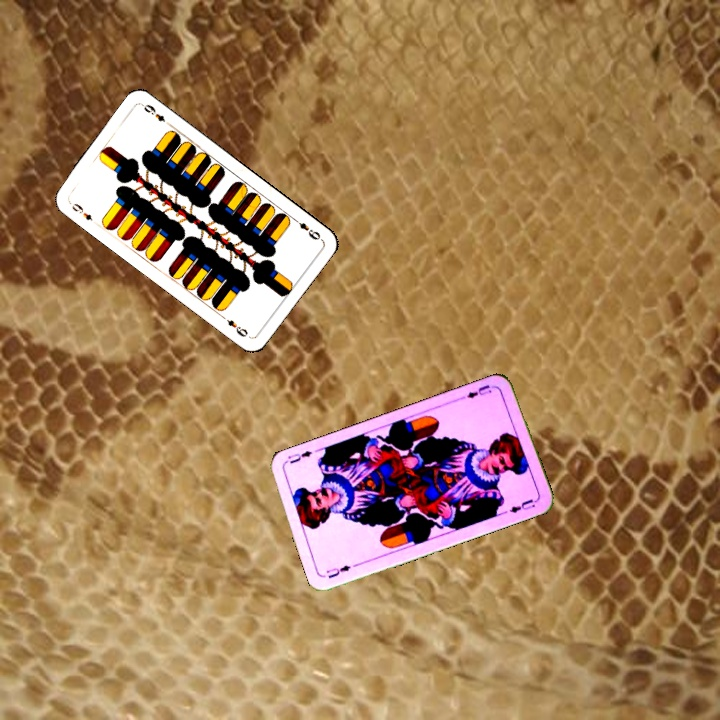E9: (289, 214, 323, 243), (65, 198, 95, 224)
EU: (458, 380, 497, 402), (322, 561, 353, 581)
